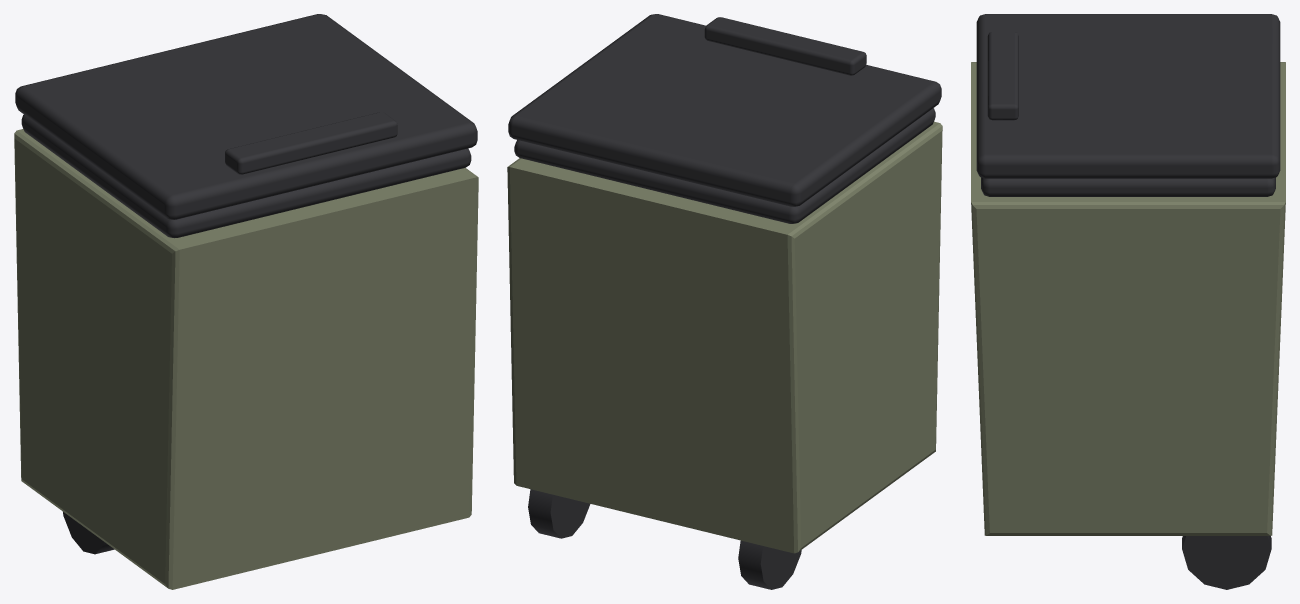
Rendered from battle-royale-town-and-airfield-wheelie-bin-4c370728__28268.glb.
3 views of the same model, side by side, from view 1: azimuth 30°, elevation 25°; view 2: azimuth 150°, elevation 25°; view 3: azimuth 270°, elevation 25° (orthographic). The views are drawn at different scales.
Visible parts, largest first — view 1: wheelie-bin, lid; view 2: wheelie-bin, lid; view 3: wheelie-bin, lid.
Part boxes in pixels (x1,y1,x2,y2): wheelie-bin: [14, 114, 478, 589]; lid: [15, 14, 477, 219]; wheelie-bin: [507, 108, 942, 589]; lid: [508, 14, 941, 206]; wheelie-bin: [971, 62, 1285, 589]; lid: [976, 14, 1280, 178].
Bounding box in the file's own units: 0.78 × 1.13 × 0.7044.
